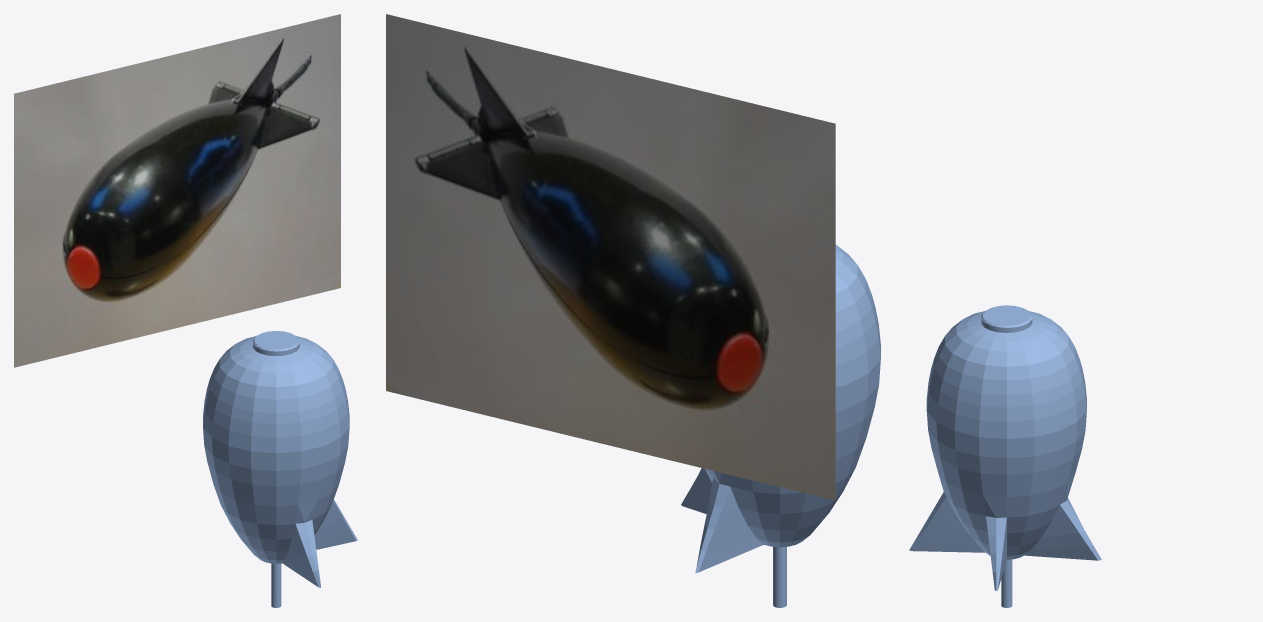
The model's file is bombe.obj.
3 renders of one model, left to right at view 1: azimuth 30°, elevation 25°; view 2: azimuth 150°, elevation 25°; view 3: azimuth 270°, elevation 25°, orthographic. The views are drawn at different scales.
Parts seen in each view (by area): view 1: Plane001, Cylinder001; view 2: Plane001, Cylinder001; view 3: Cylinder001.
Boxes of the visible parts, <box> form: Plane001: <box>14,14,340,367</box>; Cylinder001: <box>203,331,357,607</box>; Plane001: <box>386,14,835,500</box>; Cylinder001: <box>681,245,880,607</box>; Cylinder001: <box>909,305,1101,607</box>.
Bounding box in the file's own units: 119 × 163 × 98.46.
